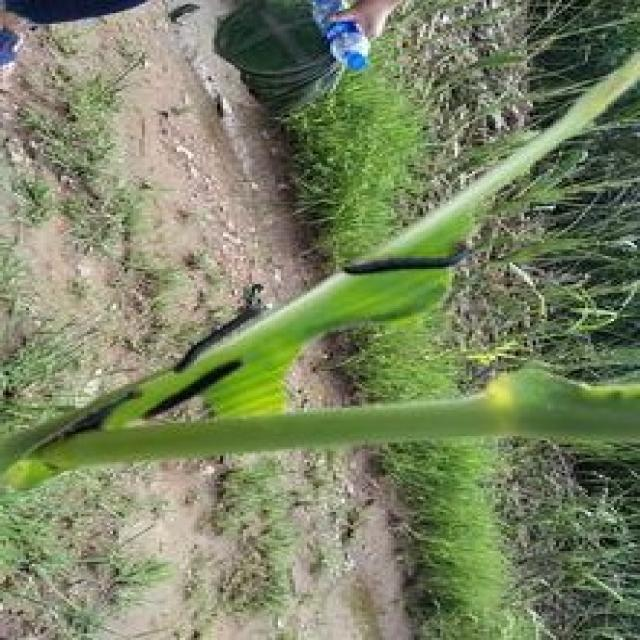army worm: (30, 383, 152, 457), (137, 354, 253, 425), (172, 300, 270, 376), (330, 239, 472, 284)
